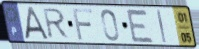0: (100, 8, 121, 43)
A: (24, 6, 50, 40)
E: (125, 8, 156, 45)
F: (71, 8, 95, 42)
I: (155, 9, 168, 45)
R: (42, 8, 71, 41)
